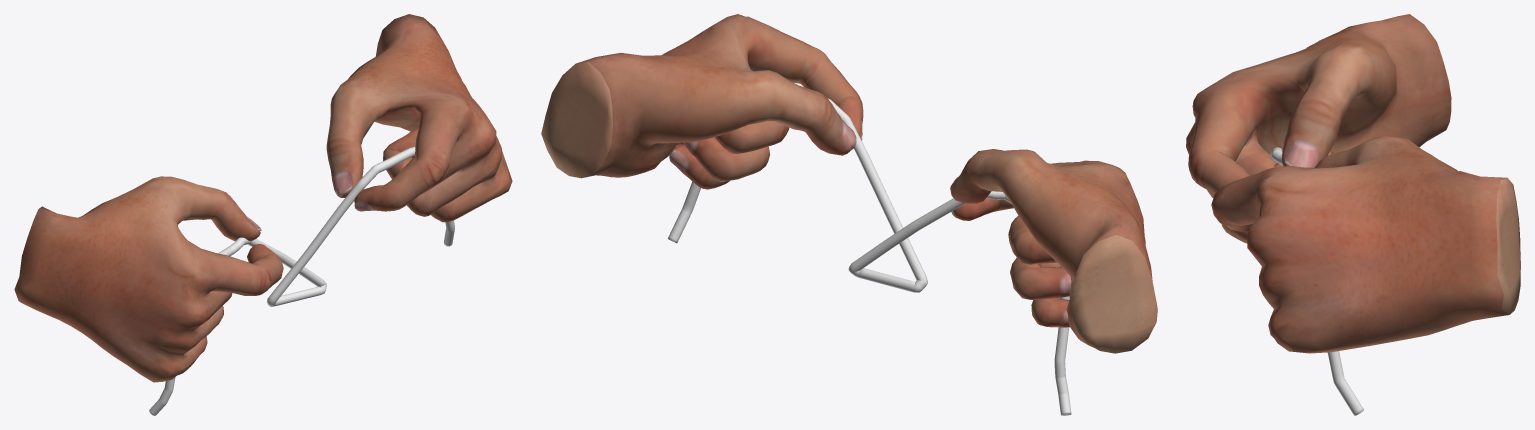
The model's file is mfk_intro_assi_startposition.fbx.
3 renders of one model, left to right at view 1: azimuth 30°, elevation 25°; view 2: azimuth 150°, elevation 25°; view 3: azimuth 270°, elevation 25°, orthographic. The views are drawn at different scales.
Visible parts, largest first — view 1: hand_R, Hand_L, faden_L, faden_R; view 2: Hand_L, hand_R, faden_L, faden_R; view 3: Hand_L, hand_R, faden_L.
Part boxes in pixels (x1,y1,x2,y2): hand_R: [14, 176, 283, 382]; Hand_L: [326, 14, 512, 222]; faden_L: [267, 146, 454, 306]; faden_R: [149, 237, 326, 415]; Hand_L: [541, 14, 863, 189]; hand_R: [950, 149, 1157, 353]; faden_L: [667, 98, 927, 292]; faden_R: [848, 191, 1071, 415]; Hand_L: [1211, 136, 1520, 353]; hand_R: [1186, 14, 1451, 243]; faden_L: [1327, 351, 1363, 415].
Bounding box in the file's own units: 36.54 × 19.83 × 17.12.
